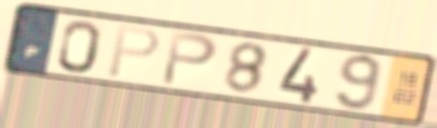0: (55, 19, 105, 75)
4: (277, 45, 321, 106)
8: (221, 41, 271, 95)
9: (333, 52, 384, 113)
P: (158, 29, 220, 88), (105, 24, 163, 80)
